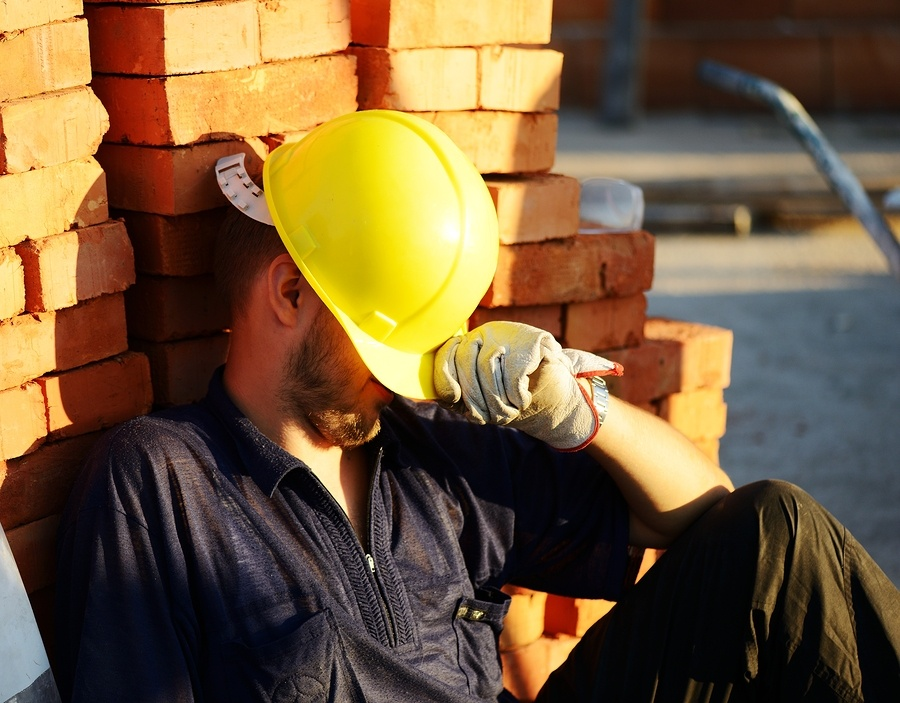yellow: (212, 107, 499, 439)
